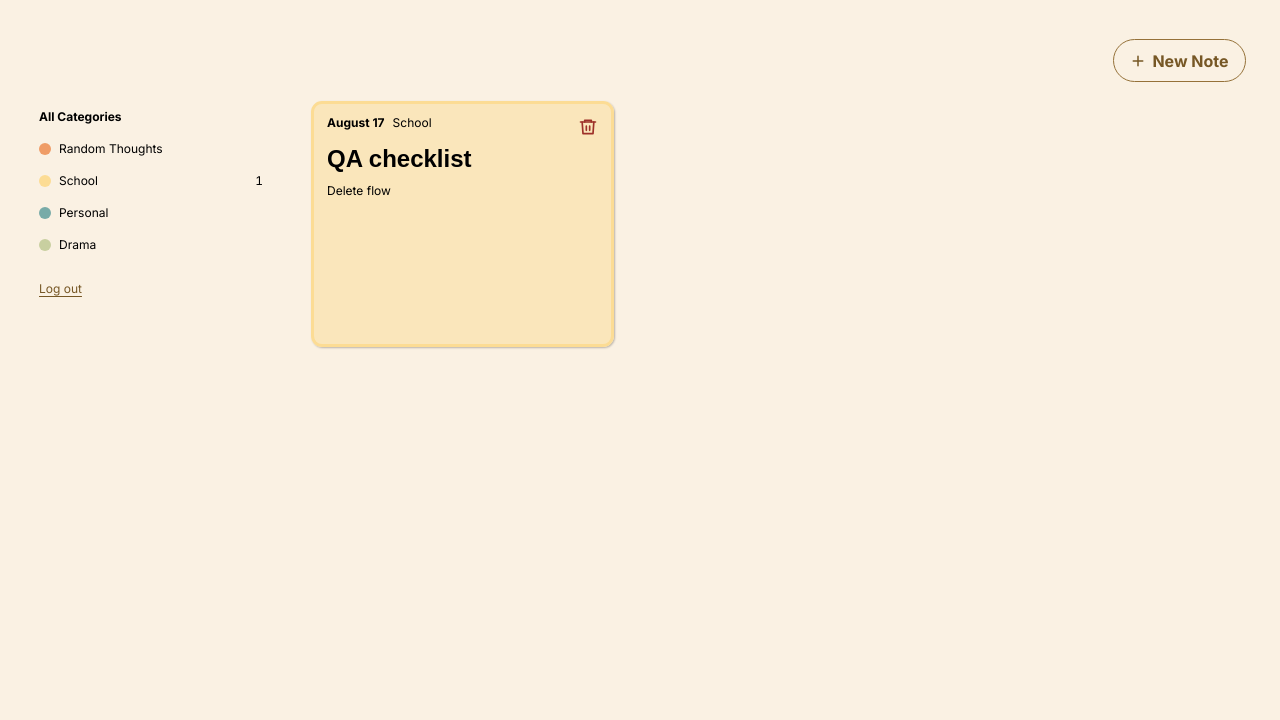
it: notes delete flow › keeps the confirmation open with a retryable error
Click the button named "Delete QA checklist".
click(588, 127)  # box [566,105,610,149]
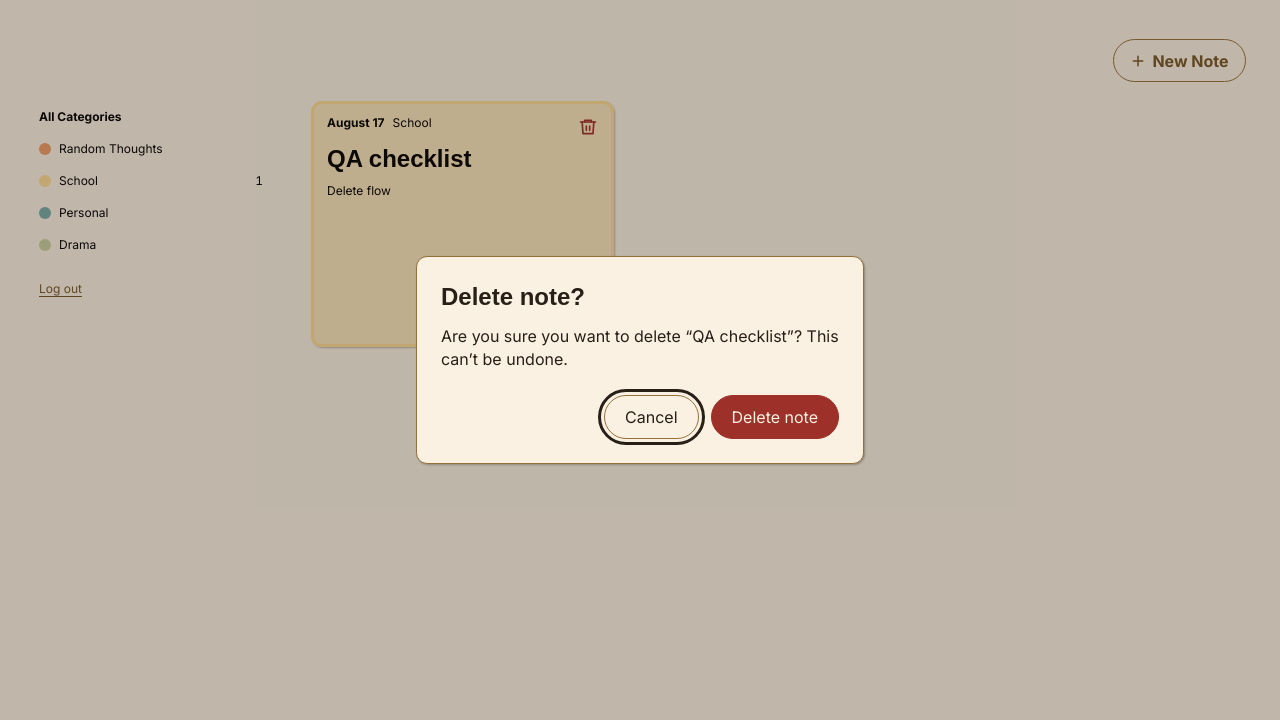
Click the button "Delete note".
click(775, 417)  # box [711,395,839,439]
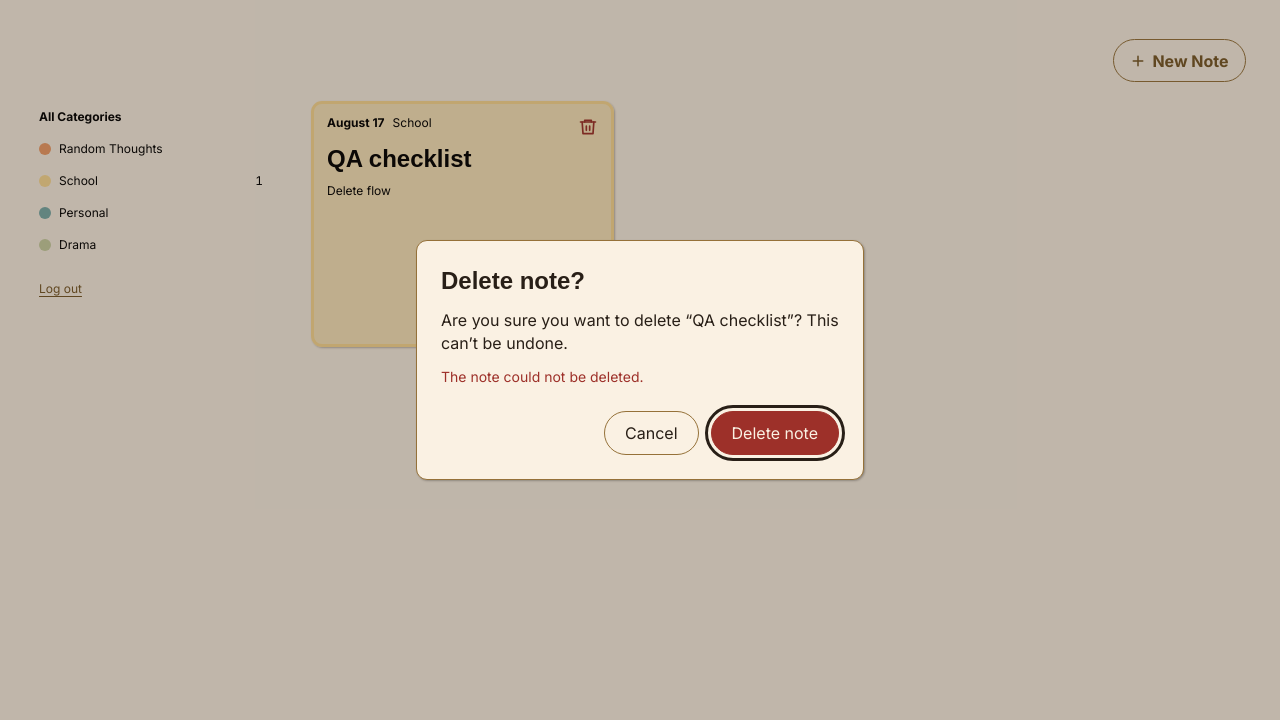
Now the dialog "Delete note?" is shown, box [416,240,864,480]
Now the button "Delete note" is enabled, box [711,411,839,455]
Now the message reads "The note could not be deleted.", box [441,368,644,385]
